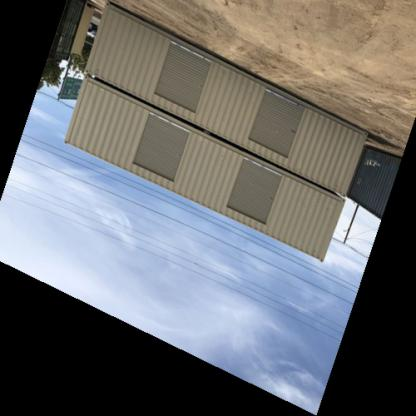Damage: (284, 127, 302, 138), (266, 194, 274, 211), (174, 152, 184, 160)
